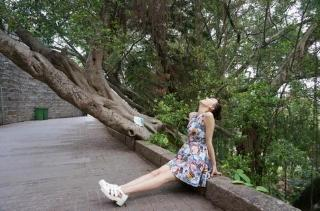vest: (166, 113, 212, 188)
